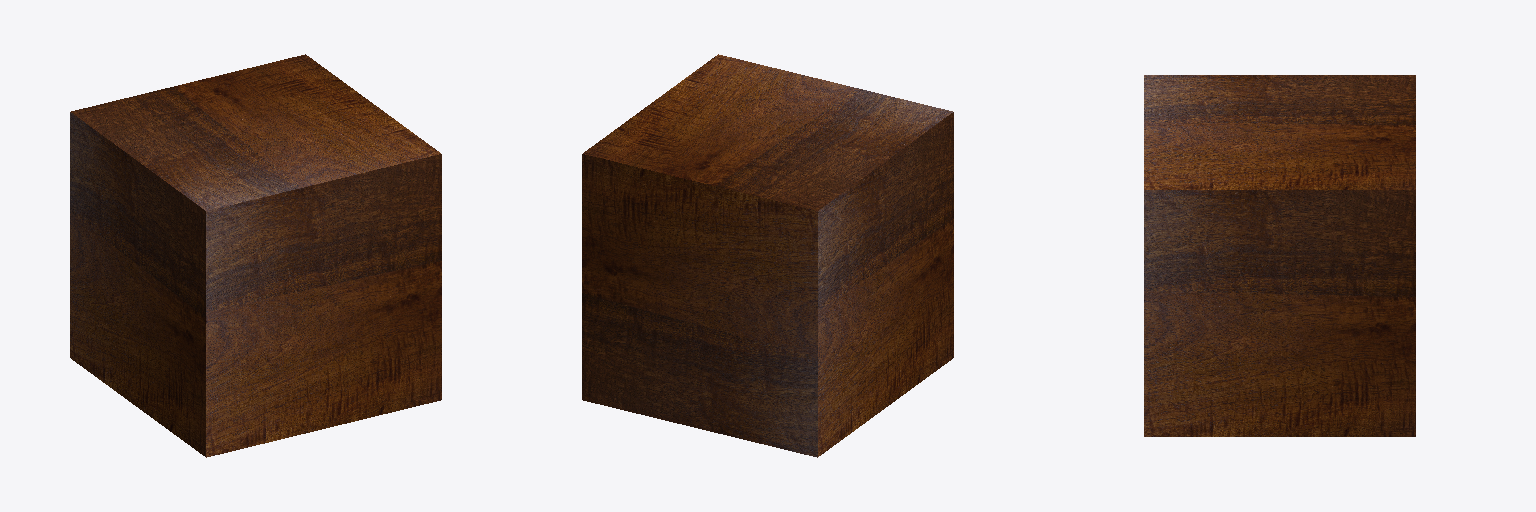
3 views of the same model, side by side, from view 1: azimuth 30°, elevation 25°; view 2: azimuth 150°, elevation 25°; view 3: azimuth 270°, elevation 25° (orthographic).
Visible parts, largest first — view 1: Cube; view 2: Cube; view 3: Cube.
Part boxes in pixels (x1,y1,x2,y2): Cube: (70,54,441,457); Cube: (582,54,953,457); Cube: (1144,75,1415,436).
Size of the model in its own units: 2 by 2 by 2.
1 materials, 1 textured.